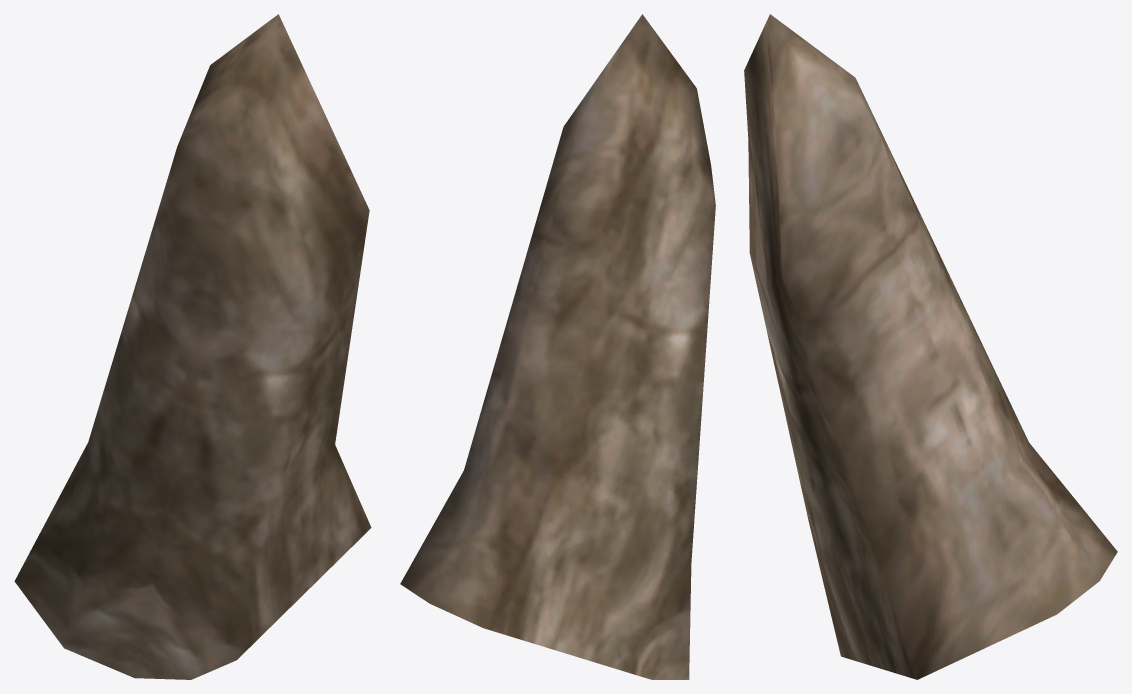
Rendered from OVERHILL_A_01_ROCK39.fbx.
3 views of the same model, side by side, from view 1: azimuth 30°, elevation 25°; view 2: azimuth 150°, elevation 25°; view 3: azimuth 270°, elevation 25° (orthographic). The views are drawn at different scales.
Parts seen in each view (by area): view 1: OVERHILL_A_01_ROCK39; view 2: OVERHILL_A_01_ROCK39; view 3: OVERHILL_A_01_ROCK39.
Part boxes in pixels (x1,y1,x2,y2): OVERHILL_A_01_ROCK39: (14, 14, 371, 679); OVERHILL_A_01_ROCK39: (400, 14, 715, 679); OVERHILL_A_01_ROCK39: (744, 14, 1117, 679).
Size of the model in its own units: 40513 by 85761 by 44506.
1 material, 1 textured.
